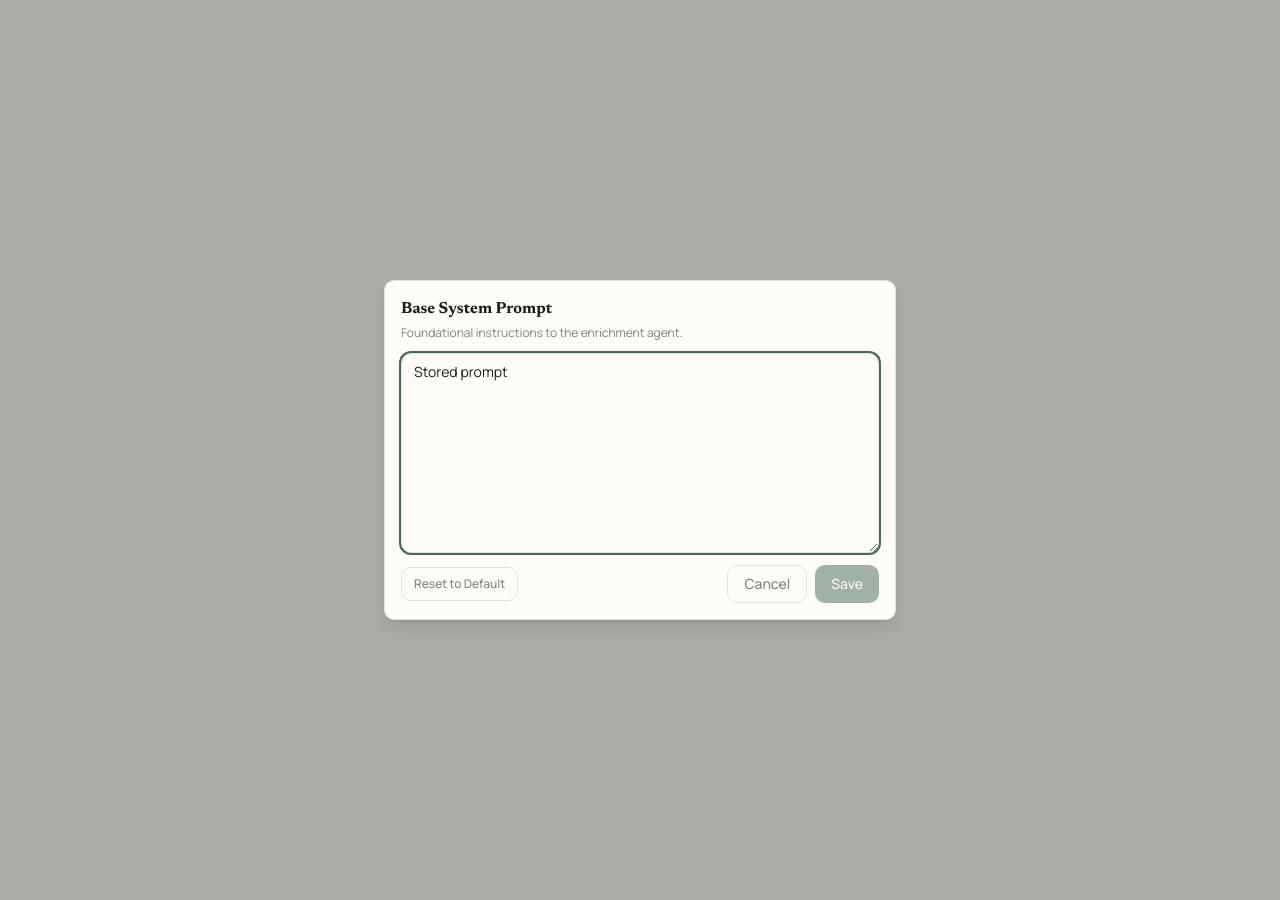
Test: SystemPromptEditor › resets textarea to initial prompt when dialog is dismissed and reopened
The image size is (1280, 900).
Replace the text in the text box with "Unsaved edits" at (640, 453), box [401,353,879,553]
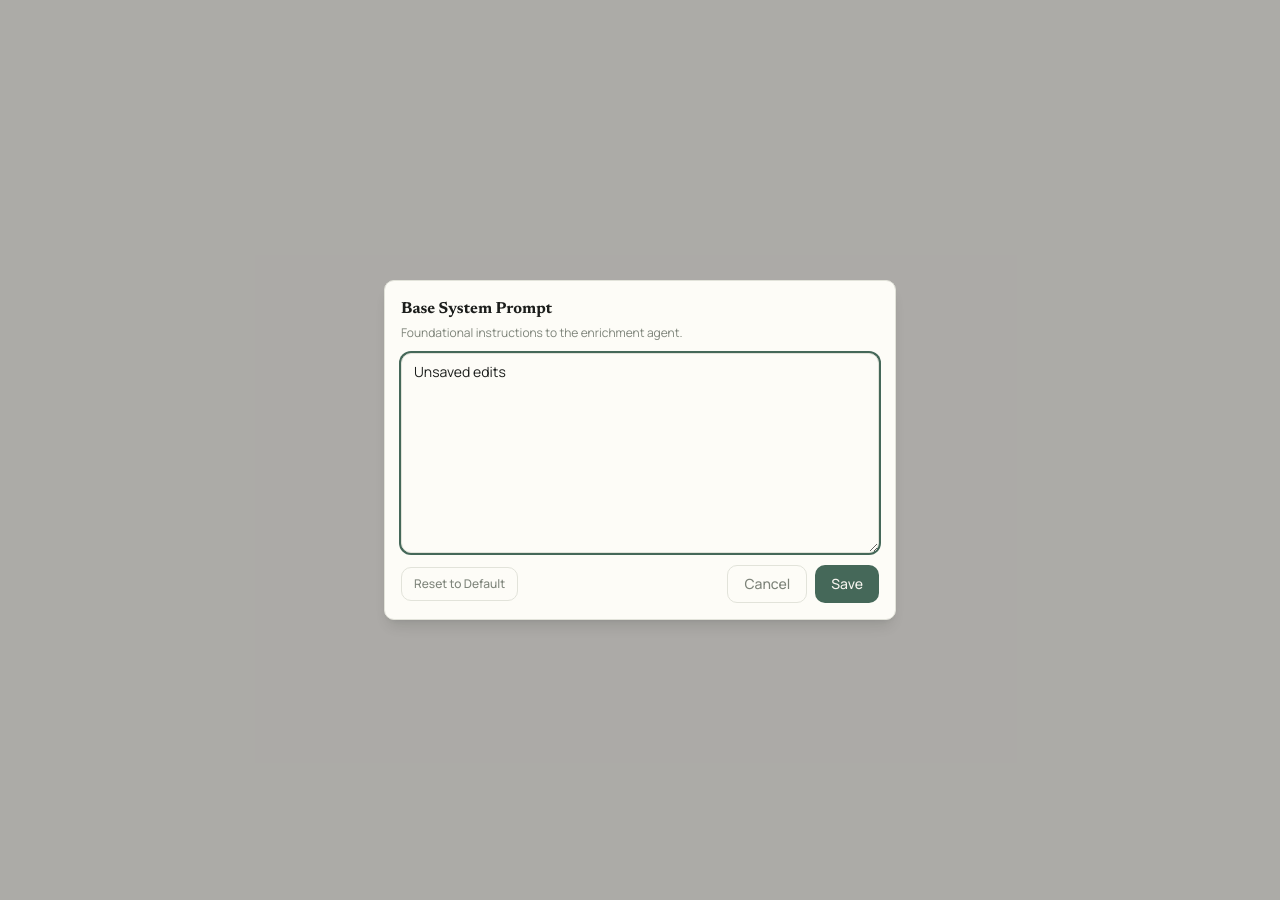
// Dismiss the dialog
Click the button "Cancel" at (767, 584), box [728,565,807,603]
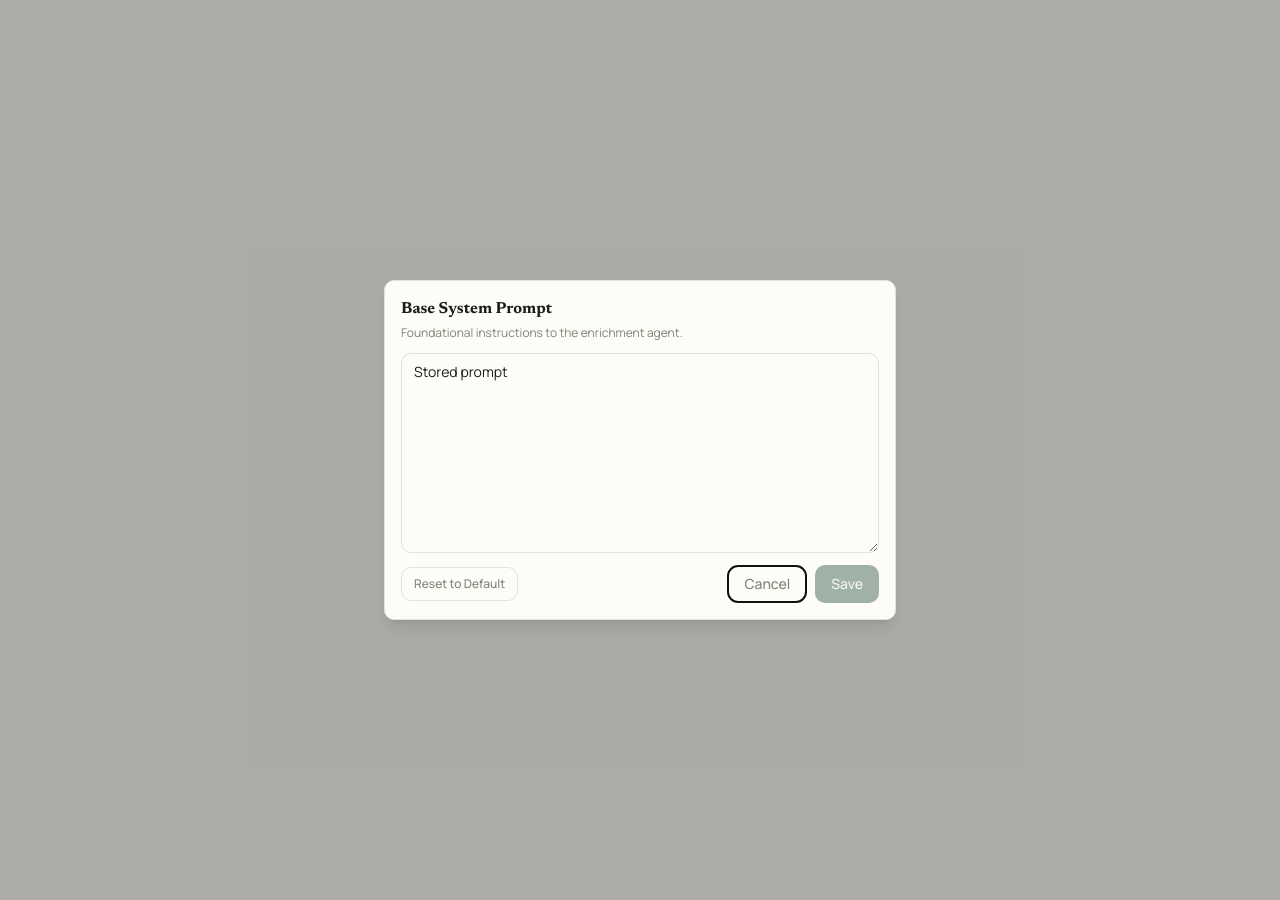
Now the text box holds "Stored prompt", box [401,353,879,553]
